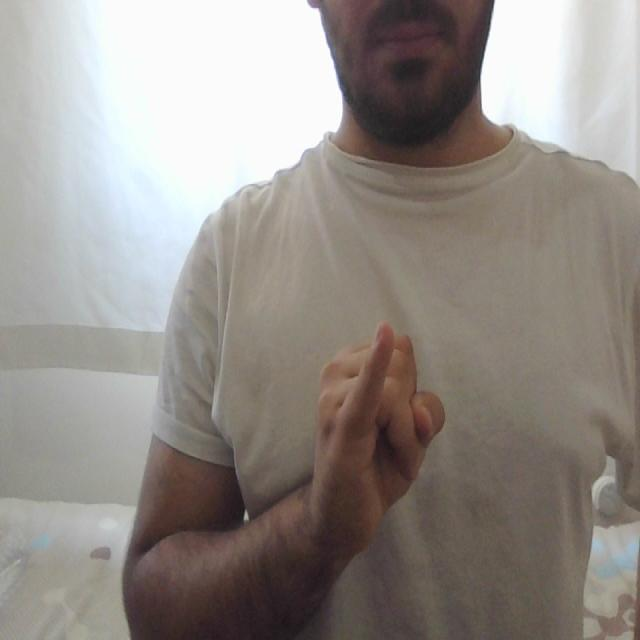kotu: (306, 310, 454, 502)
